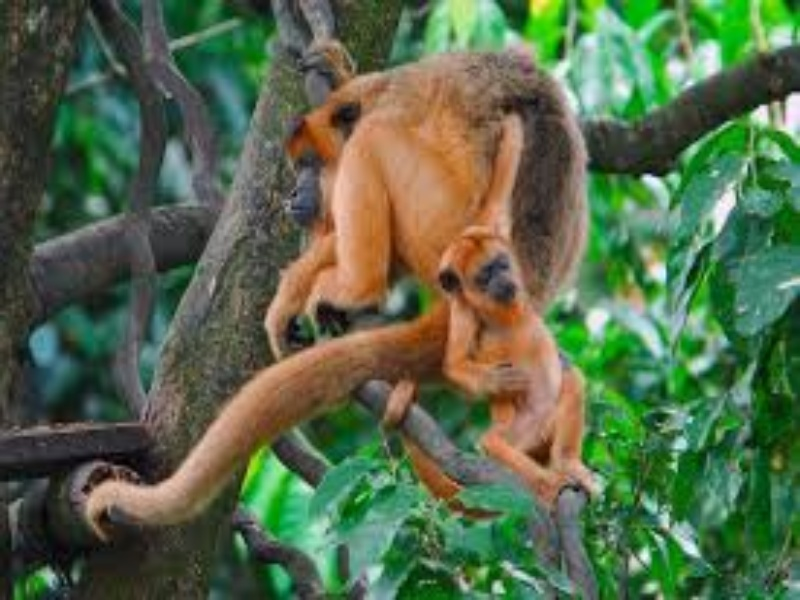monkey: (262, 20, 598, 254), (428, 228, 645, 504)
